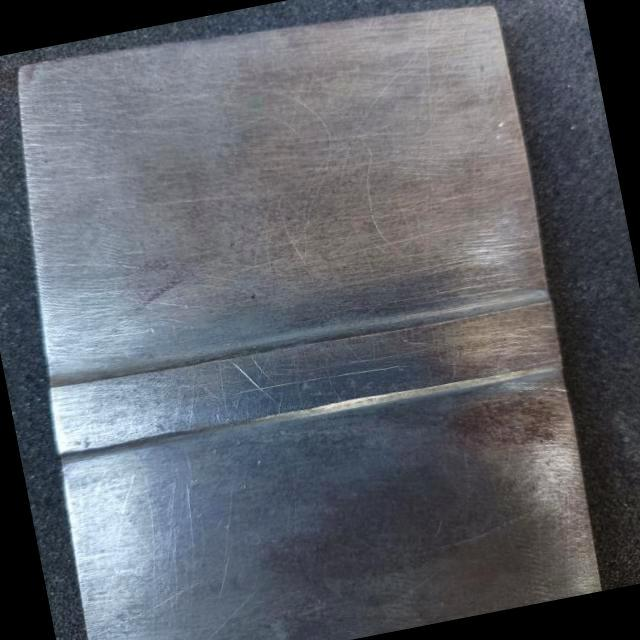defect: (226, 364, 409, 397)
